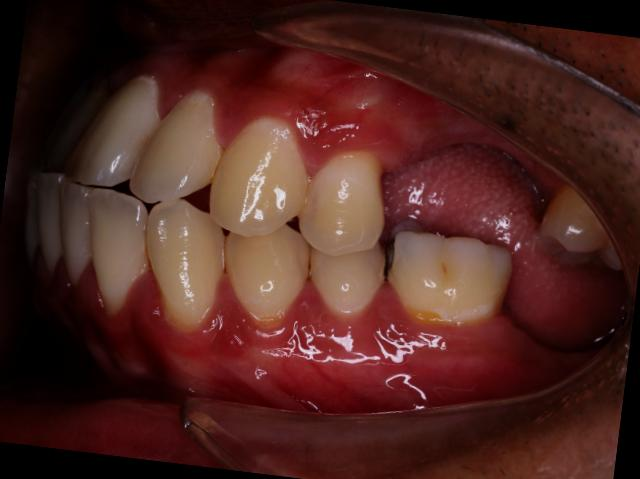canine class III 1/4: (131, 105, 324, 356)
